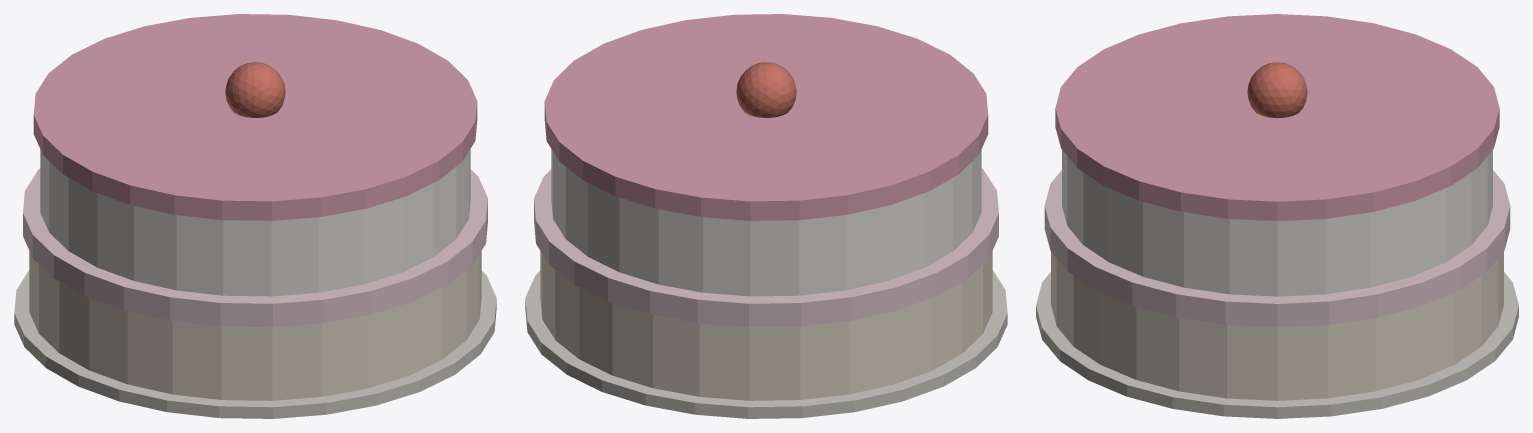
The model's file is cake.glb.
3 renders of one model, left to right at view 1: azimuth 30°, elevation 25°; view 2: azimuth 150°, elevation 25°; view 3: azimuth 270°, elevation 25°, orthographic.
Visible parts, largest first — view 1: geometry_3, geometry_0, geometry_2, geometry_1, geometry_5, geometry_4; view 2: geometry_3, geometry_0, geometry_2, geometry_1, geometry_5, geometry_4; view 3: geometry_3, geometry_0, geometry_2, geometry_1, geometry_5, geometry_4.
Part boxes in pixels (left/top/right/bottom): geometry_3: left=33, top=14, right=477, bottom=220; geometry_0: left=29, top=251, right=481, bottom=400; geometry_2: left=40, top=149, right=470, bottom=296; geometry_1: left=23, top=168, right=487, bottom=327; geometry_5: left=14, top=270, right=496, bottom=418; geometry_4: left=225, top=62, right=285, bottom=117; geometry_3: left=544, top=14, right=988, bottom=220; geometry_0: left=540, top=251, right=992, bottom=400; geometry_2: left=551, top=149, right=981, bottom=296; geometry_1: left=534, top=168, right=998, bottom=327; geometry_5: left=525, top=270, right=1007, bottom=418; geometry_4: left=736, top=62, right=796, bottom=117; geometry_3: left=1055, top=14, right=1499, bottom=221; geometry_0: left=1051, top=252, right=1503, bottom=400; geometry_2: left=1062, top=150, right=1492, bottom=296; geometry_1: left=1044, top=170, right=1510, bottom=327; geometry_5: left=1036, top=272, right=1518, bottom=418; geometry_4: left=1247, top=62, right=1307, bottom=118.
Bounding box in the file's own units: 0.224 × 0.129 × 0.224.
